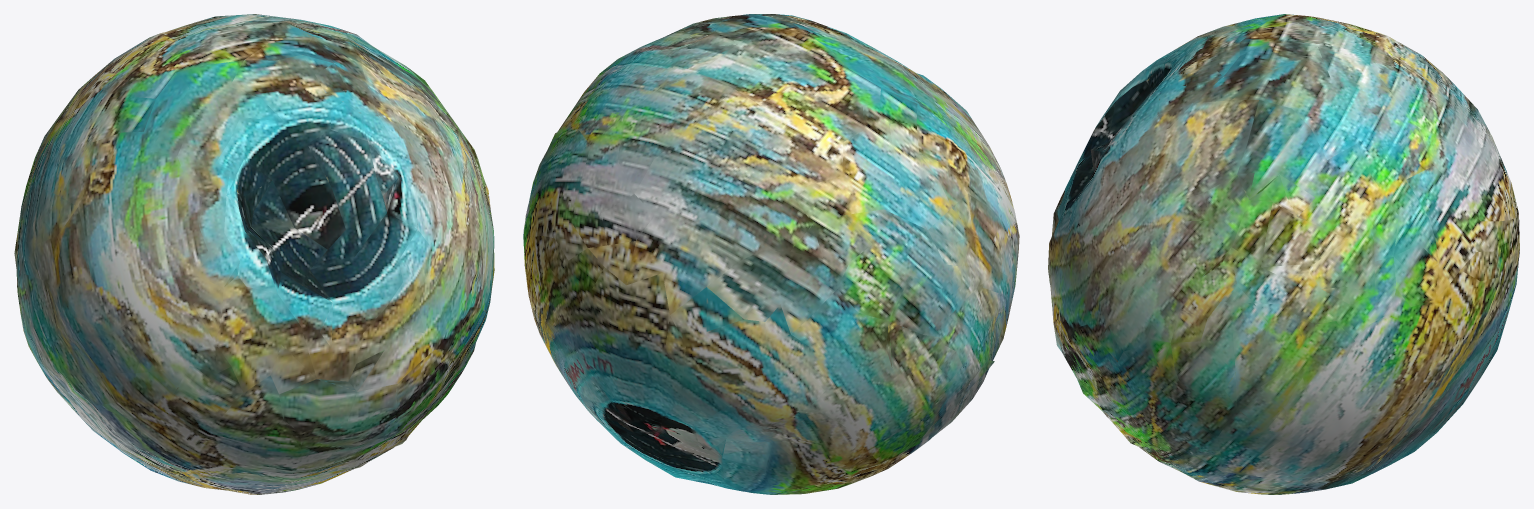
File: AH1 ChanLim Landscape15.glb
The picture shows the model from 3 angles, left to right: view 1: azimuth 30°, elevation 25°; view 2: azimuth 150°, elevation 25°; view 3: azimuth 270°, elevation 25°; orthographic projection. The views are drawn at different scales.
Bounding box in the file's own units: 1000 × 986 × 969.
1 material, 1 textured.
